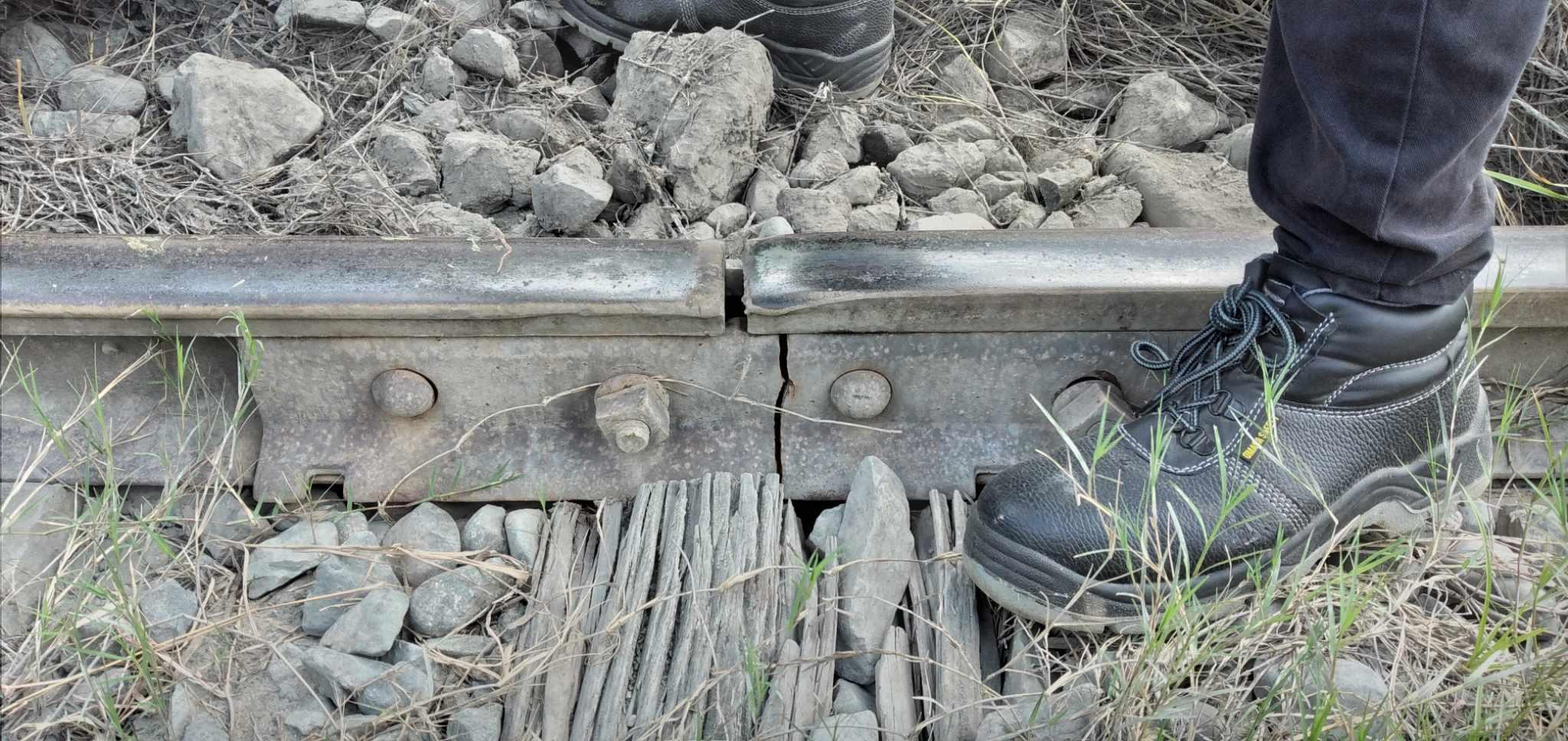railway-gap: (740, 330, 827, 508), (663, 234, 795, 334)
